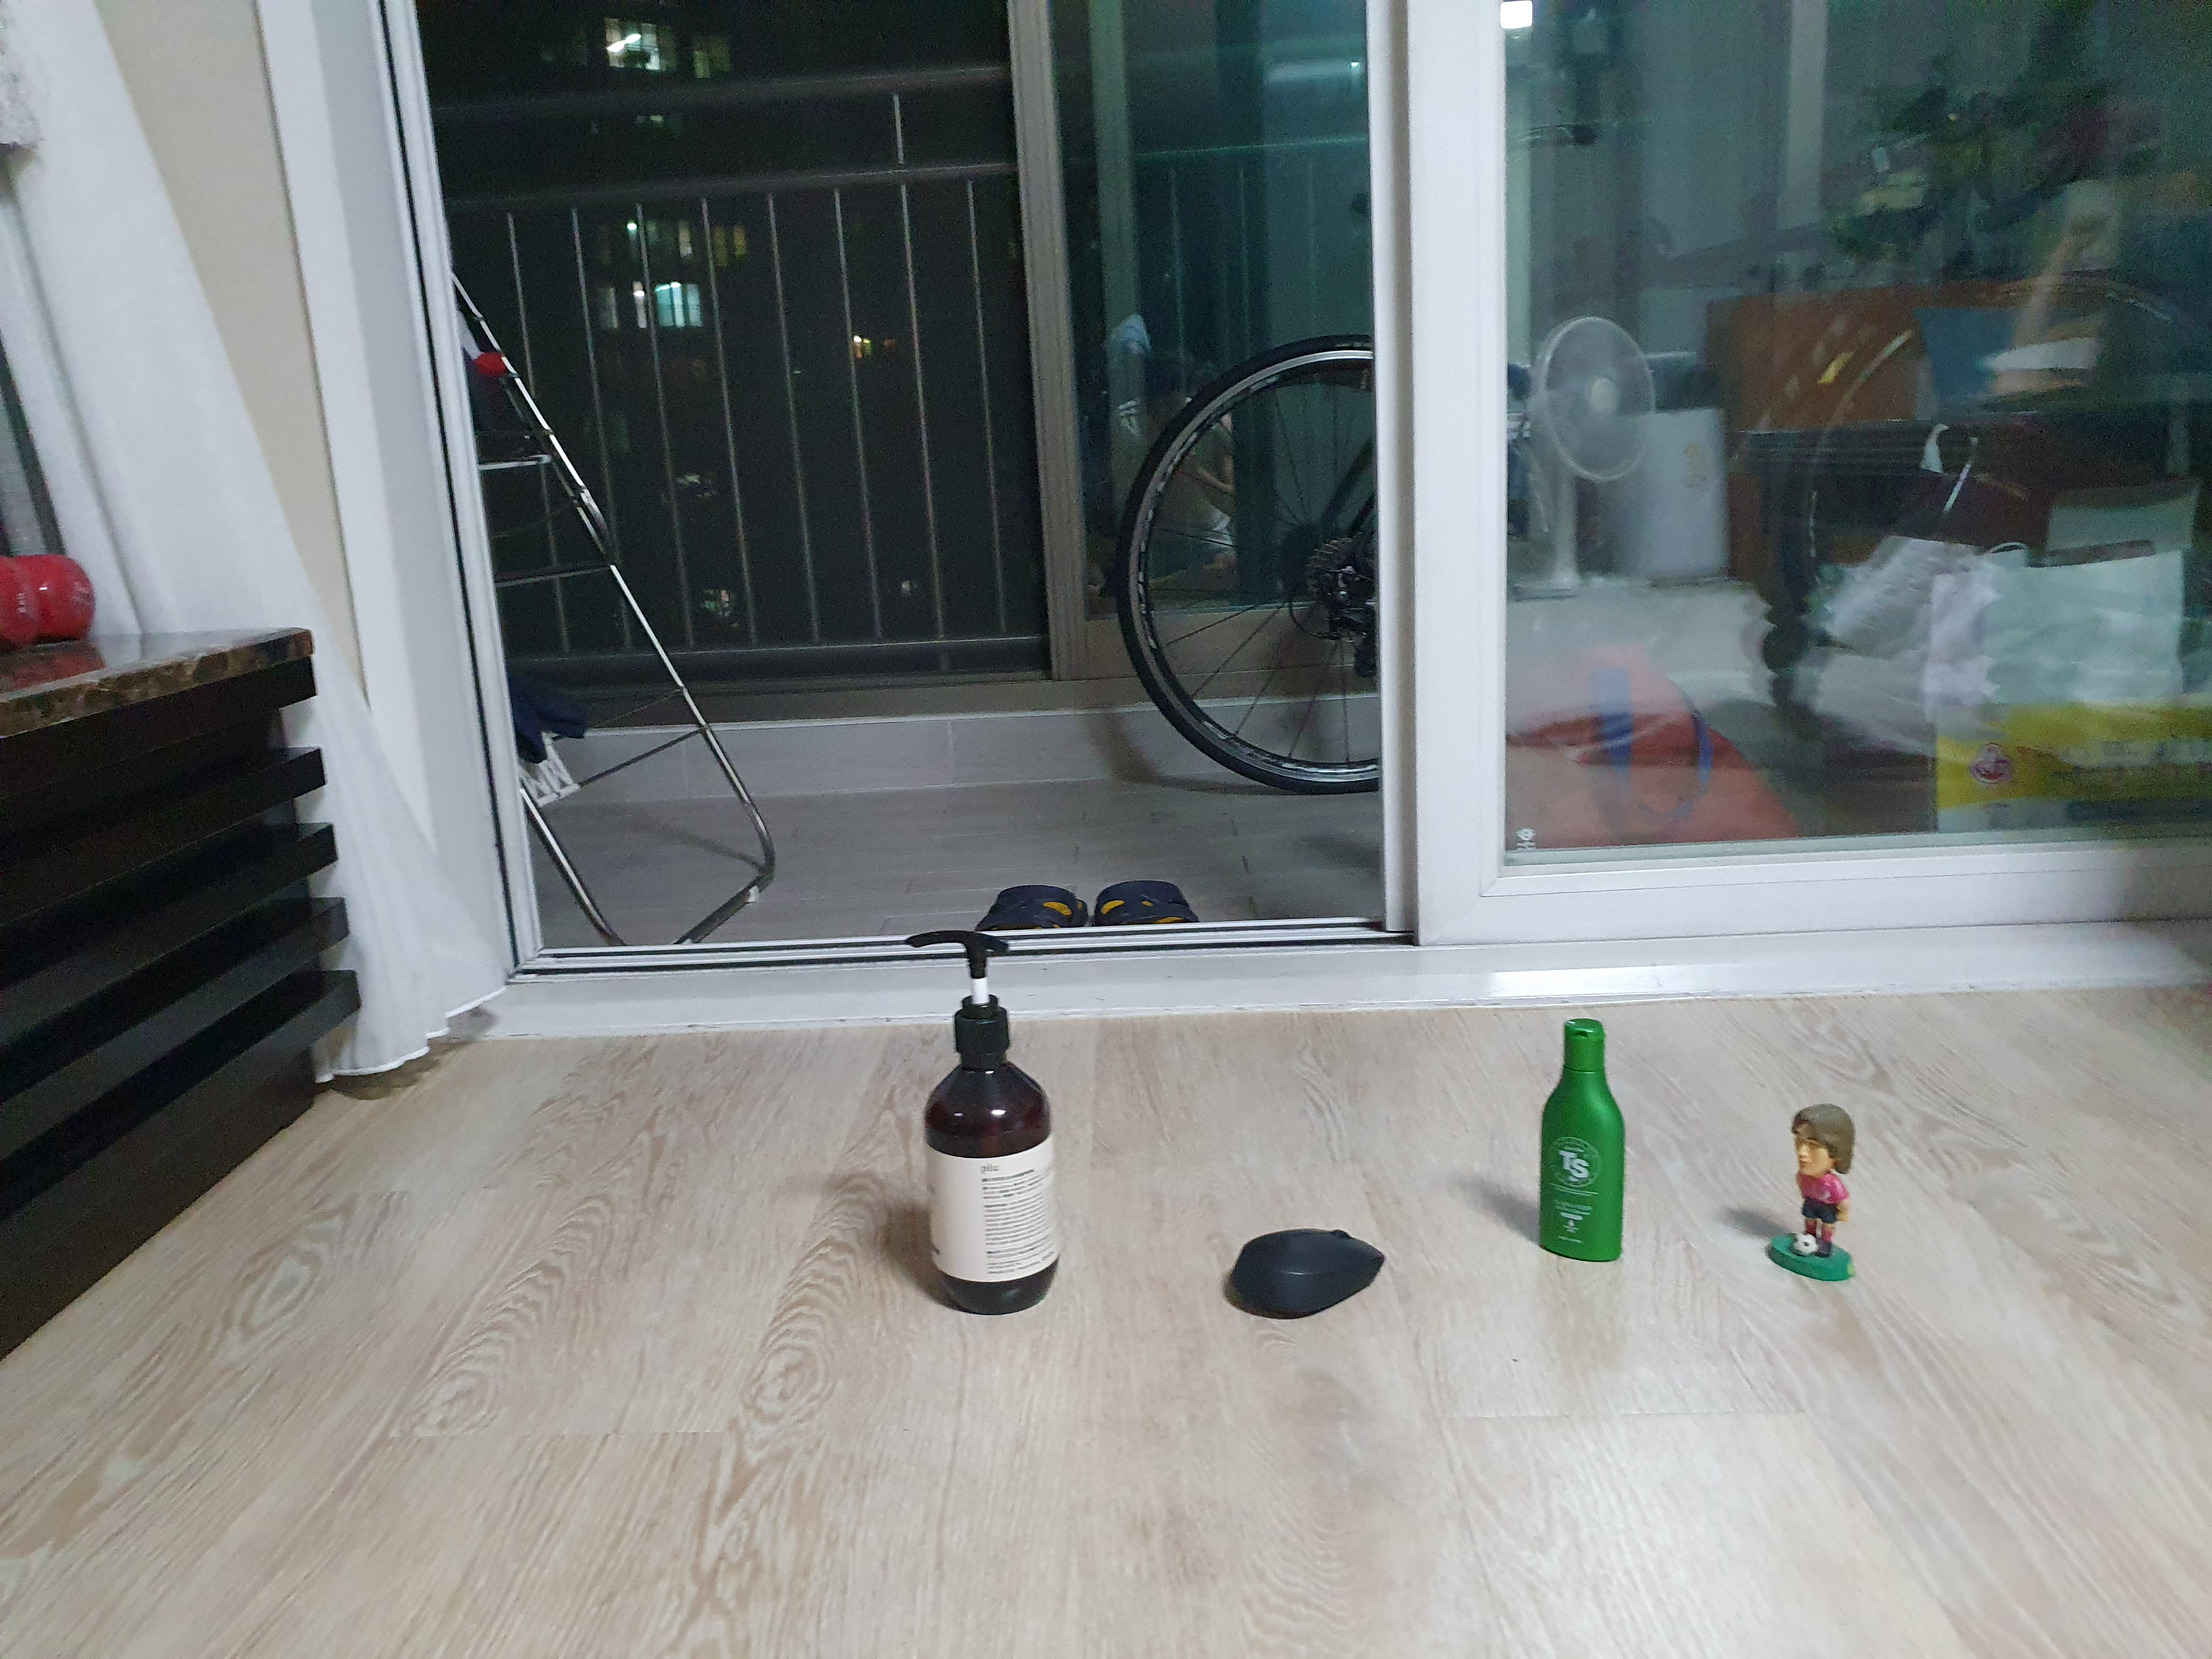bottle: (876, 915, 1122, 1337)
mouse: (1205, 1213, 1416, 1347)
shampoo: (1503, 1004, 1655, 1270)
yoo: (1761, 1094, 1874, 1297)
